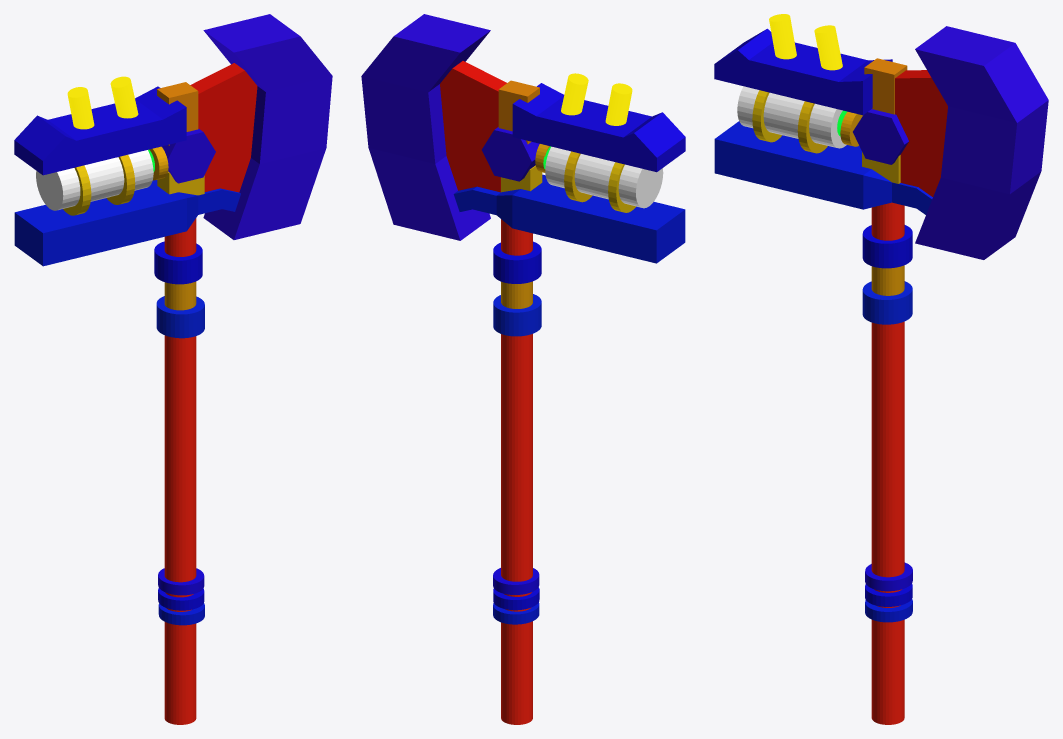
3 views of the same model, side by side, from view 1: azimuth 30°, elevation 25°; view 2: azimuth 150°, elevation 25°; view 3: azimuth 330°, elevation 25° (orthographic). The views are drawn at different scales.
Visible parts, largest first — view 1: Cube.004, Cylinder, Cube.005, Cube.001, Cube, Cylinder.013, Cylinder.004, Cylinder.012, Cylinder.011, Cube.003, Cylinder.010, Cylinder.009 (+6 smaller); view 2: Cube.004, Cylinder, Cube.005, Cube.001, Cube, Cylinder.013, Cylinder.004, Cylinder.011, Cylinder.012, Cube.003, Cylinder.010, Cylinder.009 (+6 smaller); view 3: Cube.004, Cylinder, Cube.005, Cube.001, Cube, Cylinder.013, Cylinder.004, Cylinder.012, Cylinder.011, Cube.003, Cylinder.010, Cylinder.009 (+6 smaller).
Part boxes in pixels (left/top/right/bottom): Cube.004: left=203, top=14, right=332, bottom=239; Cylinder: left=164, top=218, right=196, bottom=724; Cube.005: left=14, top=180, right=240, bottom=266; Cube.001: left=14, top=86, right=186, bottom=175; Cube: left=190, top=63, right=257, bottom=192; Cylinder.013: left=36, top=150, right=153, bottom=210; Cylinder.004: left=161, top=129, right=215, bottom=183; Cylinder.012: left=156, top=296, right=204, bottom=338; Cylinder.011: left=154, top=241, right=202, bottom=284; Cube.003: left=157, top=82, right=198, bottom=145; Cylinder.010: left=67, top=87, right=94, bottom=129; Cylinder.009: left=110, top=76, right=138, bottom=118; Cube.004: left=361, top=14, right=490, bottom=240; Cylinder: left=501, top=219, right=532, bottom=724; Cube.005: left=453, top=174, right=685, bottom=263; Cube.001: left=512, top=83, right=685, bottom=172; Cube: left=440, top=61, right=506, bottom=192; Cylinder.013: left=545, top=146, right=663, bottom=208; Cylinder.004: left=482, top=127, right=539, bottom=181; Cylinder.011: left=493, top=241, right=541, bottom=283; Cylinder.012: left=493, top=294, right=541, bottom=336; Cube.003: left=498, top=80, right=539, bottom=144; Cylinder.010: left=605, top=83, right=632, bottom=125; Cylinder.009: left=561, top=73, right=588, bottom=115; Cube.004: left=915, top=26, right=1048, bottom=259; Cylinder: left=871, top=202, right=904, bottom=724; Cube.005: left=714, top=121, right=932, bottom=214; Cube.001: left=714, top=28, right=892, bottom=115; Cube: left=895, top=70, right=947, bottom=196; Cylinder.013: left=737, top=86, right=846, bottom=148; Cylinder.004: left=853, top=109, right=908, bottom=164; Cylinder.012: left=862, top=281, right=912, bottom=324; Cylinder.011: left=862, top=225, right=912, bottom=268; Cube.003: left=864, top=58, right=907, bottom=114; Cylinder.010: left=769, top=14, right=796, bottom=59; Cylinder.009: left=814, top=25, right=842, bottom=70.
Size of the model in its own units: 3.25 by 7.1 by 0.651.
